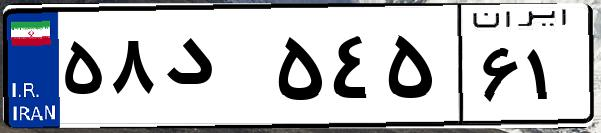1: (525, 38, 570, 115)
4: (330, 28, 385, 110)
5: (270, 28, 330, 110), (385, 28, 445, 110), (57, 26, 110, 100)
6: (475, 38, 525, 113)
8: (110, 28, 158, 98)
د: (158, 20, 270, 120)
